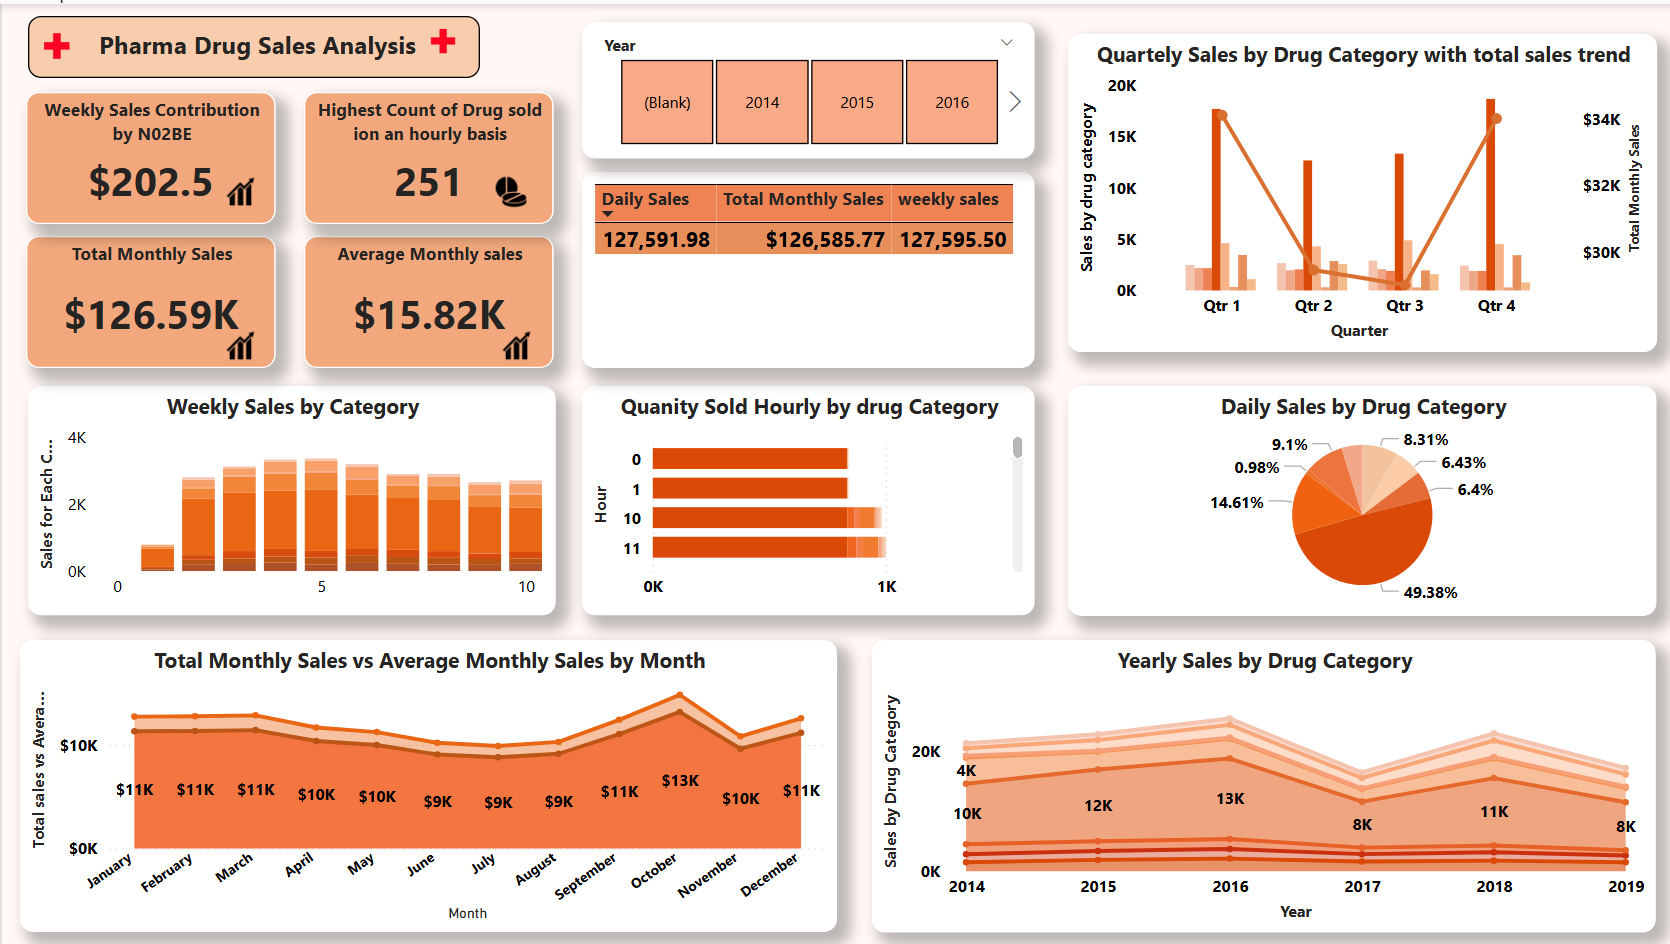

This screenshot's page, from the dashboard's own definition file:
{"tool":"powerbi","page":{"name":"Dashboard","canvas":[1280,720],"ordinal":0},"visuals":[{"type":"textbox","box":[19.2,9,346.2,47.4],"z":0},{"type":"columnChart","title":"Weekly Sales by Category","fields":{"Category":["Sales Weekly.Week Num"],"Y":["Sum(Sales Weekly.M01AB)","Sum(Sales Weekly.M01AE)","Sum(Sales Weekly.N02BA)","Sum(Sales Weekly.N02BE)","Sum(Sales Weekly.N05B)","Sum(Sales Weekly.N05C)","Sum(Sales Weekly.R03)","Sum(Sales Weekly.R06)"]},"box":[19.2,292.3,403.8,175.6],"z":1000},{"type":"stackedAreaChart","title":"Total Monthly Sales vs Average Monthly Sales by Month","fields":{"Category":["Sales Monthly.Date.Variation.Date Hierarchy.Month"],"Y":["Sales Monthly.Total Monthly Sales","Sales Monthly.Average Monthly Sales"]},"box":[13.7,486.3,625.5,223.5],"z":2000},{"type":"barChart","title":"Quanity Sold Hourly by drug Category","fields":{"Category":["Sales Hourly.Hour"],"Y":["CountNonNull(Sales Hourly.M01AB)","Count(Sales Hourly.M01AE)","Count(Sales Hourly.N02BA)","Count(Sales Hourly.N02BE)","Count(Sales Hourly.N05B)","Count(Sales Hourly.N05C)","Count(Sales Hourly.R03)","Count(Sales Hourly.R06)"]},"box":[443.3,292.2,346.7,175.6],"z":3000},{"type":"pieChart","title":"Daily Sales by Drug Category","fields":{"Y":["Sum(Sales Daily.M01AB)","Sum(Sales Daily.M01AE)","Sum(Sales Daily.N02BA)","Sum(Sales Daily.N02BE)","Sum(Sales Daily.N05B)","Sum(Sales Daily.N05C)","Sum(Sales Daily.R03)","Sum(Sales Daily.R06)"]},"box":[815.7,292.8,450.6,175.9],"z":4000},{"type":"stackedAreaChart","title":"Yearly Sales by Drug Category","fields":{"Category":["Sales Monthly.Date.Variation.Date Hierarchy.Year"],"Y":["Sum(Sales Monthly.M01AB)","Sum(Sales Monthly.M01AE)","Sum(Sales Monthly.N02BA)","Sum(Sales Monthly.N02BE)","Sum(Sales Monthly.N05B)","Sum(Sales Monthly.N05C)","Sum(Sales Monthly.R03)","Sum(Sales Monthly.R06)"]},"box":[666.3,486.7,600,224.1],"z":5000},{"type":"lineClusteredColumnComboChart","title":"Quartely Sales by Drug Category with total sales trend","fields":{"Category":["Sales Monthly.Date.Variation.Date Hierarchy.Quarter"],"Y":["Sum(Sales Monthly.M01AB)","Sum(Sales Monthly.M01AE)","Sum(Sales Monthly.N02BA)","Sum(Sales Monthly.N02BE)","Sum(Sales Monthly.N05B)","Sum(Sales Monthly.N05C)","Sum(Sales Monthly.R03)","Sum(Sales Monthly.R06)"],"Y2":["Sales Monthly.Total Monthly Sales"]},"box":[815.6,22.2,451.1,243.3],"z":6000},{"type":"card","title":"Total Monthly Sales","fields":{"Values":["Sales Monthly.Total Monthly Sales"]},"box":[18.9,177.8,191.1,101.1],"z":7000},{"type":"card","title":"Average Monthly sales","fields":{"Values":["Sales Monthly.Average Monthly Sales"]},"box":[231.1,177.8,191.1,101.1],"z":8000},{"type":"card","title":"Highest Count of Drug sold ion an hourly basis","fields":{"Values":["Count(Sales Hourly.N02BE)"]},"box":[231.1,66.7,191.1,101.1],"z":9000},{"type":"card","title":"Weekly Sales Contribution by N02BE","fields":{"Values":["Sales Weekly.weekly sales contribution by N02BE"]},"box":[18.9,66.7,191.1,101.1],"z":10000},{"type":"tableEx","fields":{"Values":["Sales Daily.Daily Sales","Sales Monthly.Total Monthly Sales","Sales Weekly.weekly sales"]},"box":[443.3,128.9,346.7,150],"z":11000},{"type":"slicer","fields":{"Values":["Sales Monthly.Date.Variation.Date Hierarchy.Year"]},"box":[443.3,13.3,346.7,104.4],"z":12000},{"type":"image","box":[365.6,127.8,47.8,33.3],"z":13000},{"type":"image","box":[162.2,127.8,40,33.3],"z":14000},{"type":"image","box":[162.2,245.6,40,33.3],"z":15000},{"type":"image","box":[373.3,245.6,40,33.3],"z":16000},{"type":"image","box":[310.8,8.4,53.8,42],"z":17000},{"type":"image","box":[18.5,10.1,47,43.7],"z":18000}]}

Visuals, with their boxes in screenshot pixels (x1, y1, x2, y2), scaled from the page's 1280x720 canvas onto the 1670x944 screenshot:
textbox: BBox(25, 12, 477, 74)
"Weekly Sales by Category" columnChart: BBox(25, 383, 552, 613)
"Total Monthly Sales vs Average Monthly Sales by Month" stackedAreaChart: BBox(18, 638, 834, 931)
"Quanity Sold Hourly by drug Category" barChart: BBox(578, 383, 1031, 613)
"Daily Sales by Drug Category" pieChart: BBox(1064, 384, 1652, 615)
"Yearly Sales by Drug Category" stackedAreaChart: BBox(869, 638, 1652, 932)
"Quartely Sales by Drug Category with total sales trend" lineClusteredColumnComboChart: BBox(1064, 29, 1653, 348)
"Total Monthly Sales" card: BBox(25, 233, 274, 366)
"Average Monthly sales" card: BBox(302, 233, 551, 366)
"Highest Count of Drug sold ion an hourly basis" card: BBox(302, 87, 551, 220)
"Weekly Sales Contribution by N02BE" card: BBox(25, 87, 274, 220)
tableEx - Sales Daily.Daily Sales x Sales Monthly.Total Monthly Sales: BBox(578, 169, 1031, 366)
slicer - Sales Monthly.Date.Variation.Date Hierarchy.Year: BBox(578, 17, 1031, 154)
image: BBox(477, 168, 539, 211)
image: BBox(212, 168, 264, 211)
image: BBox(212, 322, 264, 366)
image: BBox(487, 322, 539, 366)
image: BBox(405, 11, 476, 66)
image: BBox(24, 13, 85, 71)
